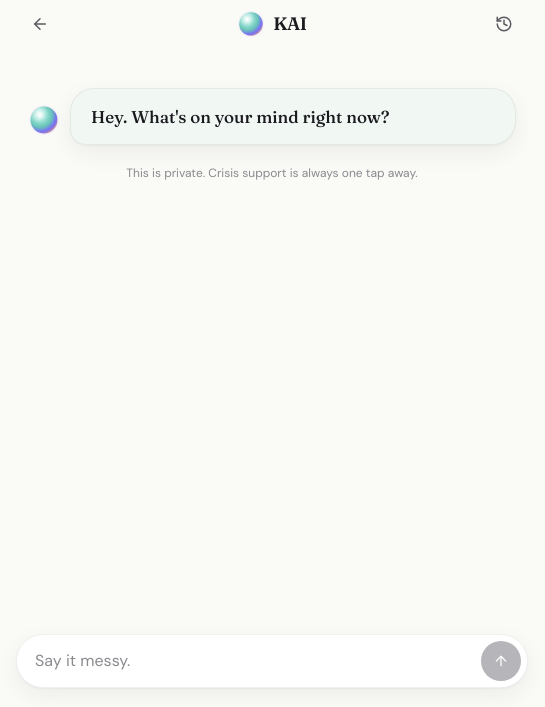
Test case: Chat — model-unavailable error state › recovers with the real reply when Try again succeeds
Type "I can't sleep" into the text box with placeholder "Say it messy." at (248, 661), box [23,641,473,681]
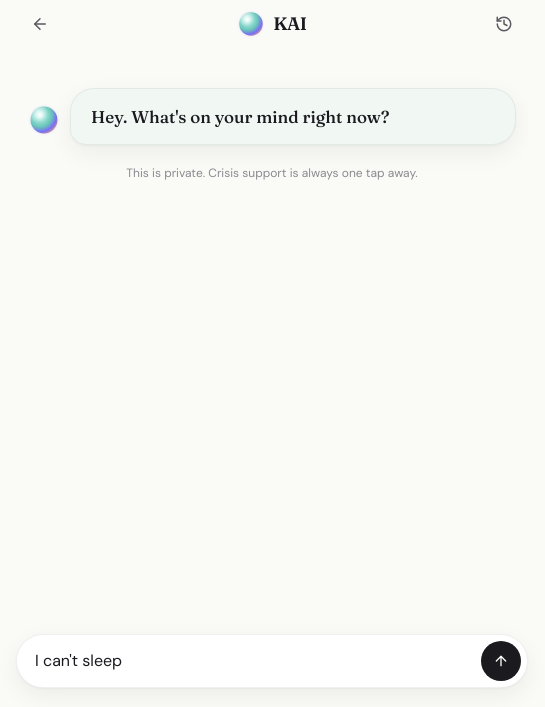
Click the button named "Send" at (501, 661), box [481,641,521,681]
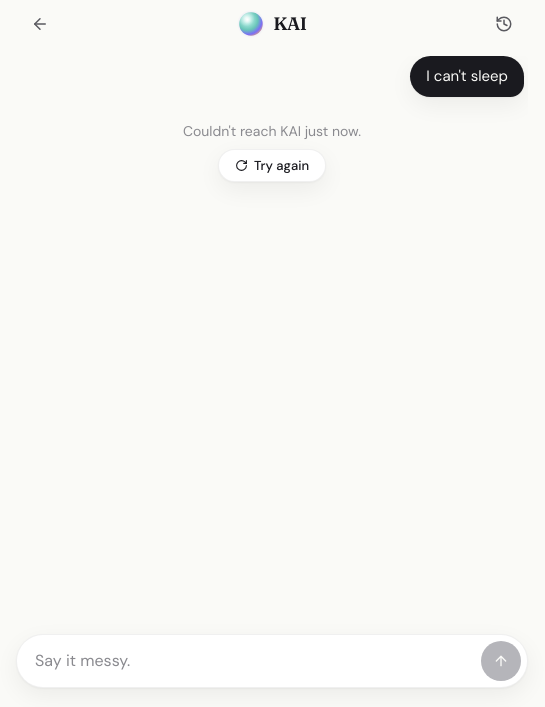
expect the text "Couldn't reach KAI just now." is shown: met, box [183,121,361,141]
Click the button "Try again" at (272, 165), box [218,149,326,182]
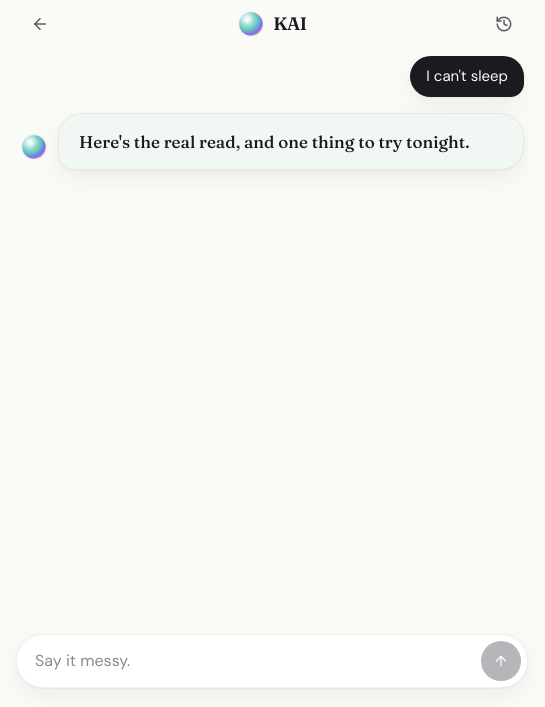
expect the text "Here's the real read, and one thing to try tonight." is shown: met, box [79,130,503,153]
expect the text "Couldn't reach KAI" is gone: met
